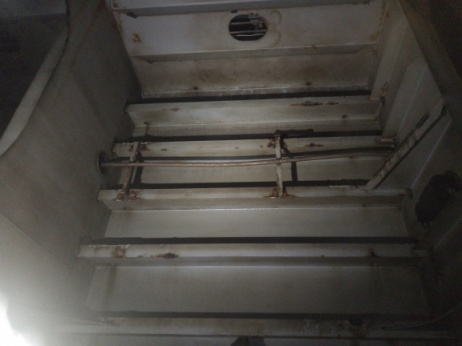corrosion: (94, 262, 124, 308), (287, 95, 337, 110), (149, 252, 185, 271), (112, 184, 139, 203), (129, 140, 163, 155), (267, 186, 295, 203), (126, 26, 149, 46), (299, 136, 326, 151)
